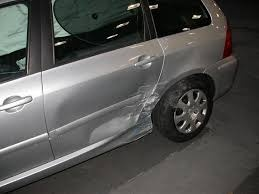Dent: (56, 97, 146, 148)
Scratch: (138, 89, 164, 134)
